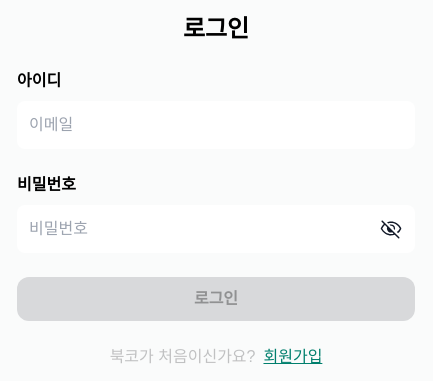
LoginForm › 이메일과 비밀번호를 입력했을 때 로그인 버튼이 활성화되어야 한다
The image size is (433, 381).
Expected: the button "로그인" is disabled, [17,277,415,321]
In the field labelled "아이디": point(216, 125) [17,101,415,149], type "test@example.com"
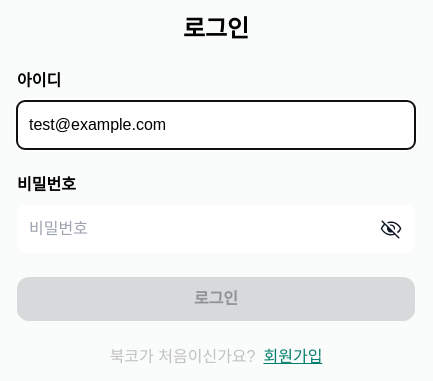
In the password field labelled "비밀번호": point(216, 229) [17,205,415,253], type "password123"
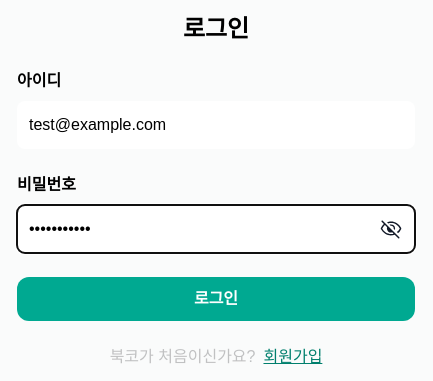
Expected: the button "로그인" is enabled, [17,277,415,321]
